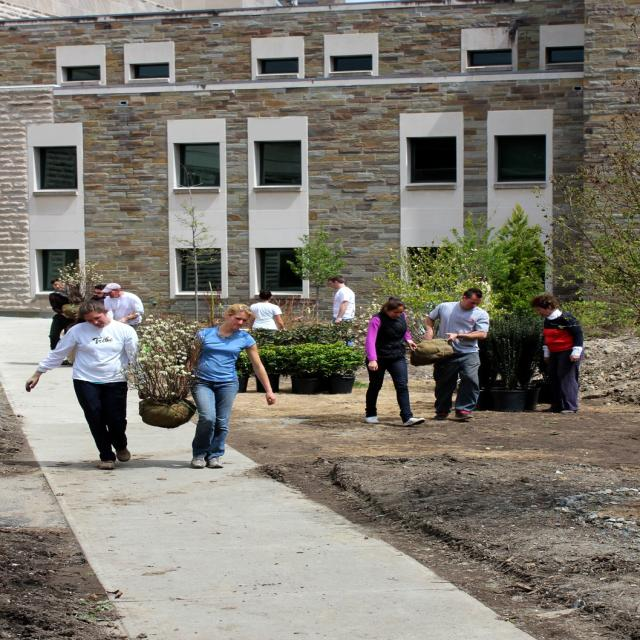body: (21, 297, 156, 473), (175, 302, 279, 469), (422, 285, 490, 421), (361, 295, 427, 428), (528, 291, 586, 415), (62, 284, 109, 366), (47, 278, 81, 350), (100, 282, 146, 331), (248, 289, 286, 333), (327, 274, 356, 324)
